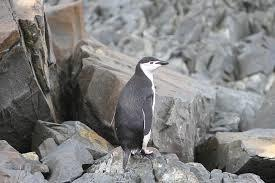chinstrap: (97, 37, 171, 166)
